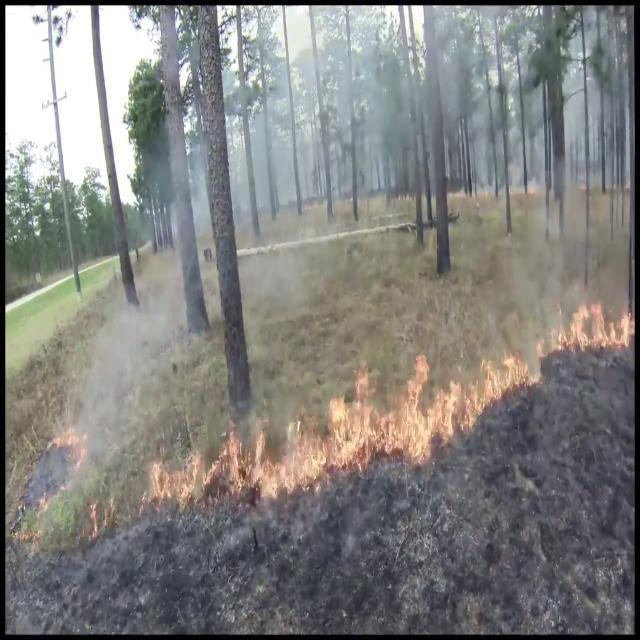Fire: (146, 404, 344, 504), (349, 336, 502, 464), (544, 290, 635, 364)
Smoke: (165, 0, 521, 299), (39, 252, 190, 536)
